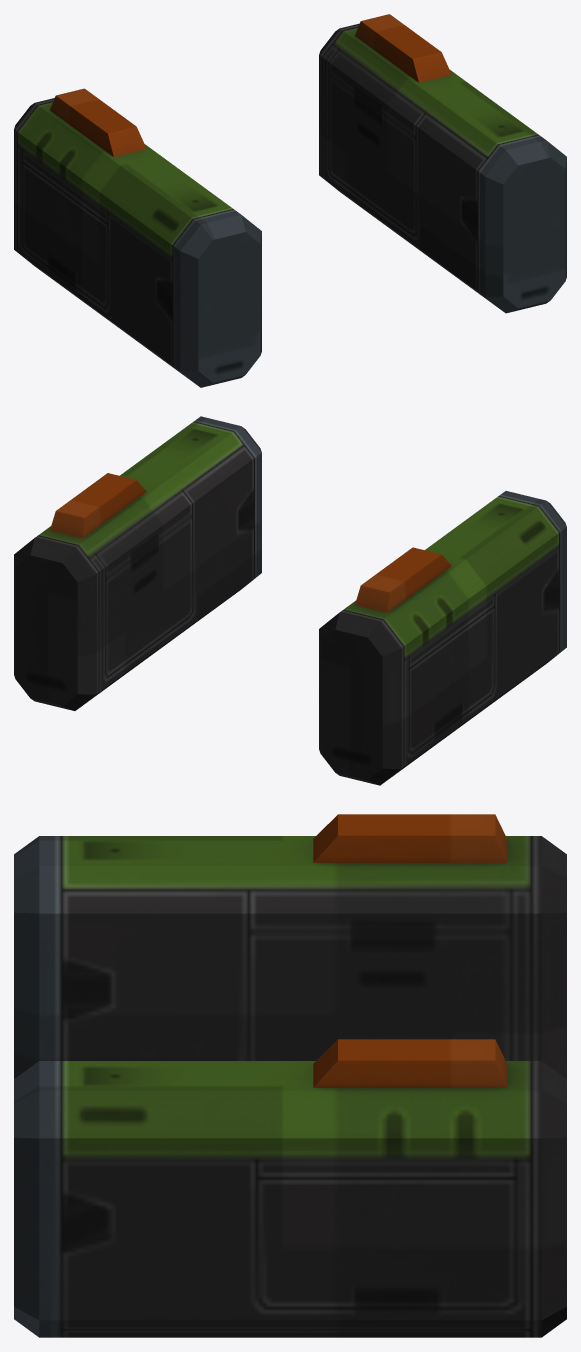
File: Mod-C_blue.FBX
3 views of the same model, one above another, from view 1: azimuth 30°, elevation 25°; view 2: azimuth 150°, elevation 25°; view 3: azimuth 270°, elevation 25° (orthographic). The views are drawn at different scales.
Parts seen in each view (by area): view 1: Mod-C_Left, Mod-C_Right; view 2: Mod-C_Right, Mod-C_Left; view 3: Mod-C_Left, Mod-C_Right.
Part boxes in pixels (left/top/right/bottom): Mod-C_Left: left=319, top=14, right=566, bottom=313; Mod-C_Right: left=14, top=88, right=261, bottom=387; Mod-C_Right: left=319, top=491, right=566, bottom=785; Mod-C_Left: left=14, top=416, right=261, bottom=710; Mod-C_Left: left=14, top=1039, right=566, bottom=1337; Mod-C_Right: left=14, top=814, right=566, bottom=1078.
Bounding box in the file's own units: 3233 × 2650 × 1442.
